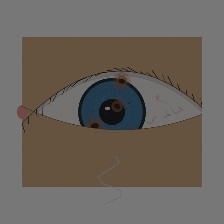foreign_body_visible: (106, 68, 138, 94)
